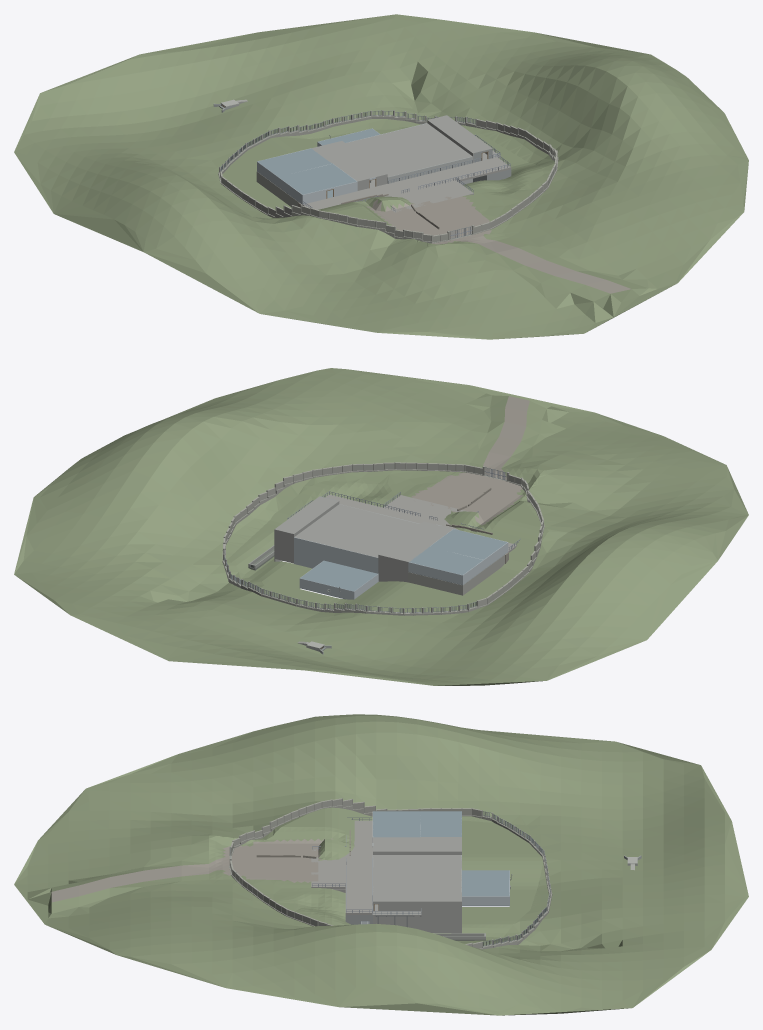
Rendered from dam-with-ventilation.glb.
The picture shows the model from 3 angles, top to bottom: view 1: azimuth 30°, elevation 25°; view 2: azimuth 150°, elevation 25°; view 3: azimuth 270°, elevation 25°; orthographic projection. The views are drawn at different scales.
Parts seen in each view (by area): view 1: Blackwater joined valley terrain at intake bench, Blackwater saved ground with road surface at receiving bench, WLD-09 turbine enclosed roof region0, WLD-09 complete structural crest deck region0, WLD-09 west hall enclosed roof region0, Ceiling cap control, Ceiling cap office, Blackwater tied boundary piers, WLD-09 complete bridge arrival forecourt region0, WLD-09 east hall enclosed roof region0; view 2: Blackwater joined valley terrain at intake bench, Blackwater saved ground with road surface at receiving bench, WLD-09 turbine enclosed roof region0, WLD-09 west hall enclosed roof region0, Ceiling cap plant, Ceiling cap control, Blackwater tied boundary piers, Flat route shell Wall turbine N.001, Ceiling cap office, WLD-09 complete bridge arrival forecourt region0, WLD-09 east hall enclosed roof region0, WLD-09 complete structural crest deck region0 (+3 smaller); view 3: Blackwater joined valley terrain at intake bench, Blackwater saved ground with road surface at receiving bench, WLD-09 turbine enclosed roof region0, WLD-09 complete structural crest deck region0, WLD-09 hall E pier0 region0, WLD-09 west hall enclosed roof region0, Ceiling cap control, Ceiling cap plant, Ceiling cap office, WLD-09 east hall enclosed roof region0, WLD-09 complete bridge arrival forecourt region0, Blackwater tied boundary piers.
Boxes of the visible parts, x1=… form: Blackwater joined valley terrain at intake bench: x1=14, y1=14, x2=748, y2=339; Blackwater saved ground with road surface at receiving bench: x1=212, y1=127, x2=543, y2=245; WLD-09 turbine enclosed roof region0: x1=345, y1=123, x2=472, y2=176; WLD-09 complete structural crest deck region0: x1=302, y1=157, x2=511, y2=209; WLD-09 west hall enclosed roof region0: x1=312, y1=141, x2=386, y2=182; Ceiling cap control: x1=278, y1=163, x2=356, y2=194; Ceiling cap office: x1=257, y1=148, x2=332, y2=176; Blackwater tied boundary piers: x1=219, y1=110, x2=557, y2=243; WLD-09 complete bridge arrival forecourt region0: x1=392, y1=180, x2=473, y2=212; WLD-09 east hall enclosed roof region0: x1=427, y1=115, x2=492, y2=153; Blackwater joined valley terrain at intake bench: x1=14, y1=368, x2=748, y2=685; Blackwater saved ground with road surface at receiving bench: x1=228, y1=462, x2=548, y2=622; WLD-09 turbine enclosed roof region0: x1=295, y1=504, x2=419, y2=557; WLD-09 west hall enclosed roof region0: x1=378, y1=521, x2=452, y2=562; Ceiling cap plant: x1=300, y1=560, x2=377, y2=591; Ceiling cap control: x1=429, y1=529, x2=506, y2=559; Blackwater tied boundary piers: x1=222, y1=462, x2=544, y2=615; Flat route shell Wall turbine N.001: x1=294, y1=537, x2=348, y2=567; Ceiling cap office: x1=409, y1=547, x2=482, y2=575; WLD-09 complete bridge arrival forecourt region0: x1=384, y1=495, x2=468, y2=523; WLD-09 east hall enclosed roof region0: x1=274, y1=496, x2=339, y2=534; WLD-09 complete structural crest deck region0: x1=325, y1=494, x2=516, y2=552; Blackwater joined valley terrain at intake bench: x1=14, y1=714, x2=748, y2=1015; Blackwater saved ground with road surface at receiving bench: x1=209, y1=807, x2=542, y2=945; WLD-09 turbine enclosed roof region0: x1=373, y1=855, x2=461, y2=892; WLD-09 complete structural crest deck region0: x1=345, y1=820, x2=372, y2=914; WLD-09 hall E pier0 region0: x1=378, y1=901, x2=461, y2=929; WLD-09 west hall enclosed roof region0: x1=373, y1=837, x2=461, y2=852; Ceiling cap control: x1=373, y1=811, x2=420, y2=837; Ceiling cap plant: x1=462, y1=870, x2=509, y2=896; Ceiling cap office: x1=420, y1=811, x2=461, y2=836; WLD-09 east hall enclosed roof region0: x1=373, y1=892, x2=461, y2=902; WLD-09 complete bridge arrival forecourt region0: x1=311, y1=849, x2=345, y2=888; Blackwater tied boundary piers: x1=230, y1=798, x2=551, y2=947.
Bounding box in the file's own units: 200 × 25.8 × 215.
Materials: 106 (61 with a texture image).
